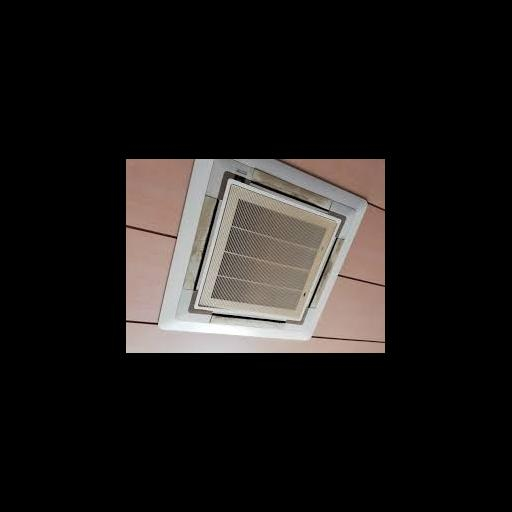4-way-ac: (156, 159, 366, 339)
